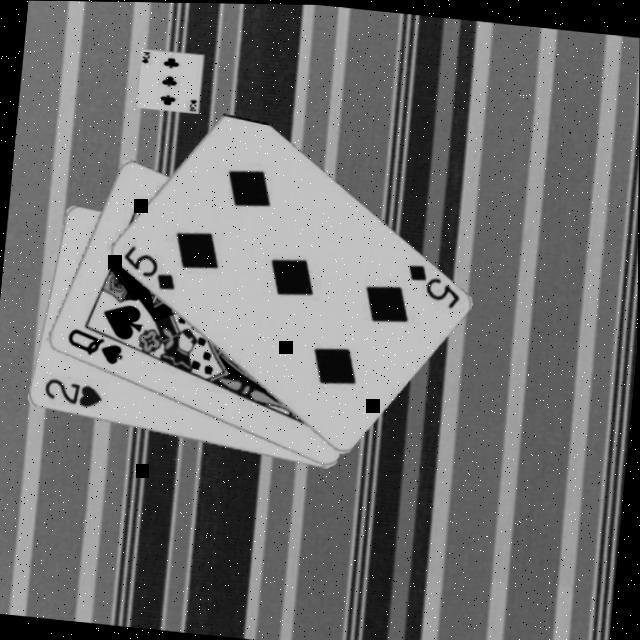2H: (37, 372, 104, 409)
5D: (114, 238, 180, 292), (399, 256, 463, 308)
QS: (60, 322, 125, 365)
